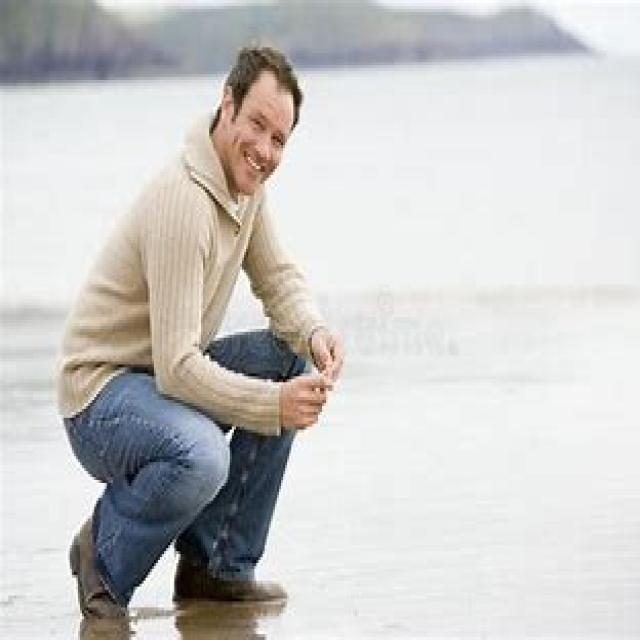sit: (50, 37, 327, 631)
